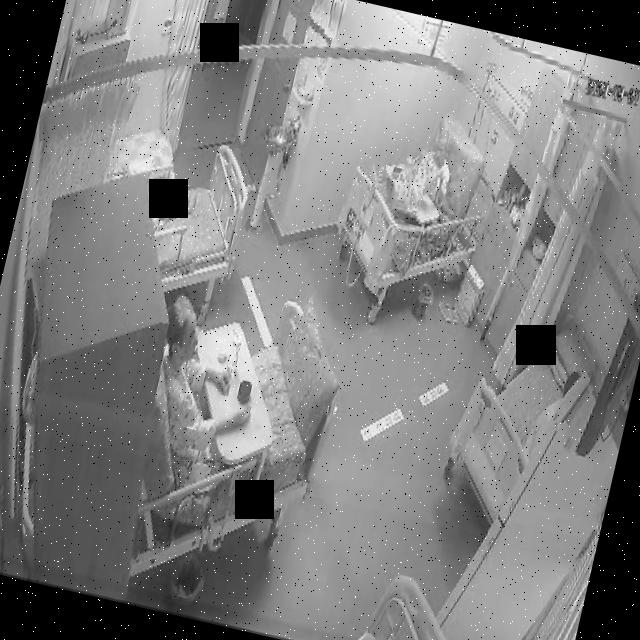bed: (120, 282, 350, 580), (434, 296, 596, 537), (327, 122, 500, 301), (134, 128, 262, 302)
patient: (136, 295, 275, 494), (408, 127, 462, 205)
sit: (133, 292, 334, 510), (375, 121, 461, 232)
